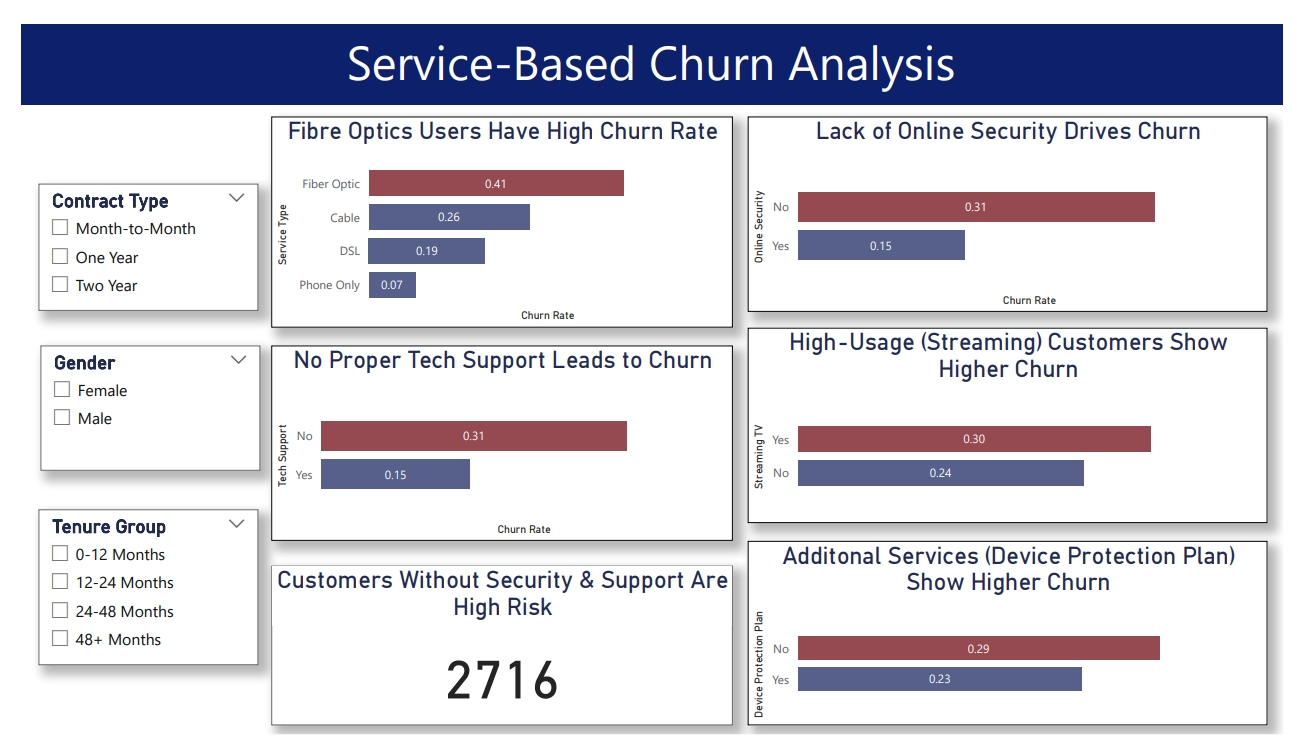

Layout of this report page (visuals, bound fields, positions):
{"tool":"powerbi","page":{"name":"Services","canvas":[1280,720],"ordinal":2},"visuals":[{"type":"slicer","fields":{"Values":["Dim_Services.Contract"]},"box":[18.4,162.2,223,129],"z":0},{"type":"slicer","fields":{"Values":["Dim_Demographics.Gender"]},"box":[20.3,326.1,223,127.1],"z":1000},{"type":"slicer","fields":{"Values":["Dim_Services.Tenure Group"]},"box":[18.4,492,223,158.5],"z":2000},{"type":"textbox","box":[0,0,1279,82.1],"z":3000},{"type":"clusteredBarChart","title":"Fibre Optics Users Have High Churn Rate","fields":{"Category":["Dim_Services.Internet Type"],"Y":["Fact_Churn.Churn Rate"]},"box":[254.3,94.4,467.4,213.2],"z":4000},{"type":"clusteredBarChart","title":"Lack of Online Security Drives Churn","fields":{"Y":["Fact_Churn.Churn Rate"],"Category":["Dim_Services.Online Security"]},"box":[736.9,94.4,526.8,197.9],"z":5000},{"type":"clusteredBarChart","title":"No Proper Tech Support Leads to Churn","fields":{"Y":["Fact_Churn.Churn Rate"],"Category":["Dim_Services.Premium Tech Support"]},"box":[254.3,325.8,467.4,197.9],"z":6000},{"type":"clusteredBarChart","title":"High-Usage (Streaming) Customers Show Higher Churn","fields":{"Y":["Fact_Churn.Churn Rate"],"Category":["Dim_Services.Streaming TV"]},"box":[736.9,307.6,526.8,197.9],"z":7000},{"type":"card","title":"Customers Without Security & Support Are High Risk","fields":{"Values":["Dim_Services.High Risk Customers"]},"box":[254.3,549.1,468,162.2],"z":8000},{"type":"clusteredBarChart","title":"Additonal Services (Device Protection Plan) Show Higher Churn","fields":{"Y":["Fact_Churn.Churn Rate"],"Category":["Dim_Services.Device Protection Plan"]},"box":[736.9,523.8,526.8,187.3],"z":9000}]}

Visuals, with their boxes in screenshot pixels (x1, y1, x2, y2), scaled from the page's 1280x720 canvas onto the 1301x751 screenshot:
slicer - Dim_Services.Contract: (19, 169, 245, 304)
slicer - Dim_Demographics.Gender: (21, 340, 247, 473)
slicer - Dim_Services.Tenure Group: (19, 513, 245, 679)
textbox: (0, 0, 1300, 86)
"Fibre Optics Users Have High Churn Rate" clusteredBarChart: (258, 98, 734, 321)
"Lack of Online Security Drives Churn" clusteredBarChart: (749, 98, 1284, 305)
"No Proper Tech Support Leads to Churn" clusteredBarChart: (258, 340, 734, 546)
"High-Usage (Streaming) Customers Show Higher Churn" clusteredBarChart: (749, 321, 1284, 527)
"Customers Without Security & Support Are High Risk" card: (258, 573, 734, 742)
"Additonal Services (Device Protection Plan) Show Higher Churn" clusteredBarChart: (749, 546, 1284, 742)
